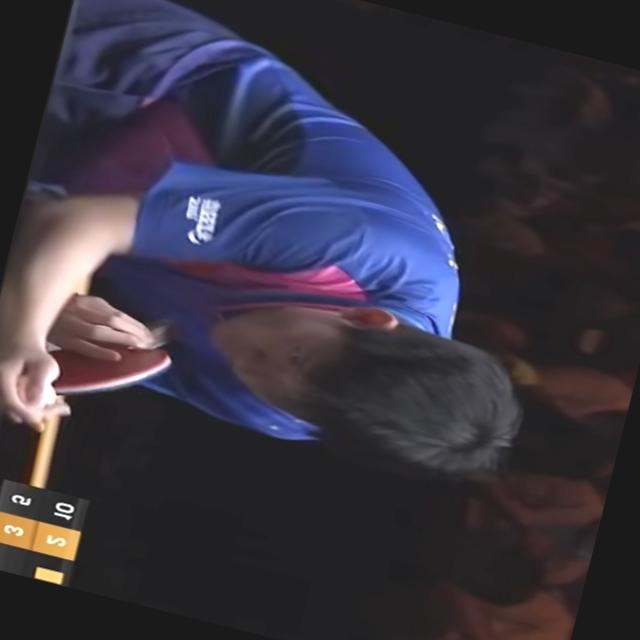TT Racket: (32, 333, 185, 404)
